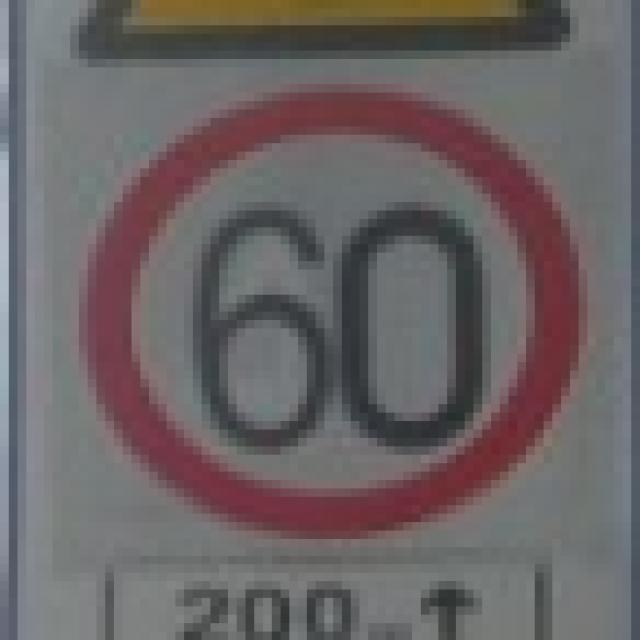Speed Limit -60-: (190, 197, 490, 448)
